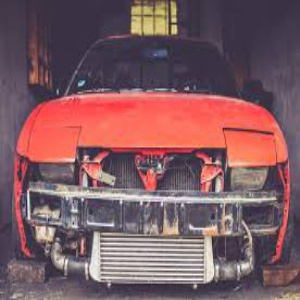bumper: (18, 185, 280, 247)
